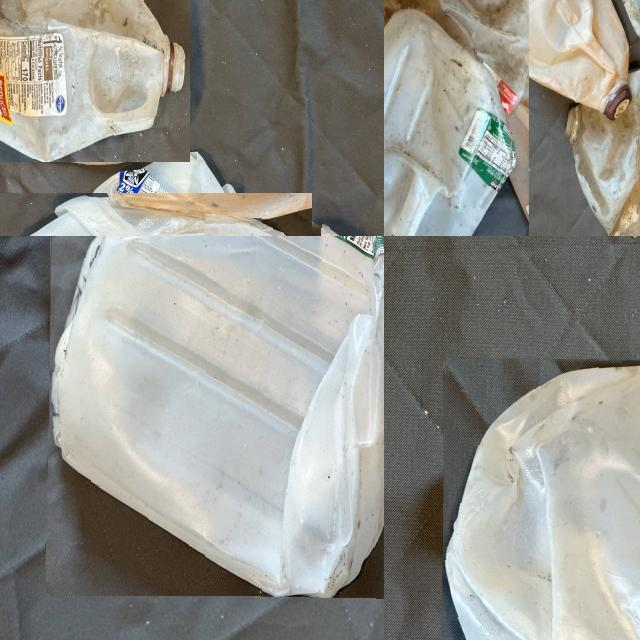milk-jug: (47, 236, 384, 597), (440, 358, 640, 640), (0, 0, 191, 163), (384, 7, 514, 236), (31, 159, 279, 236), (384, 0, 529, 94), (558, 72, 640, 236), (526, 0, 639, 108)
